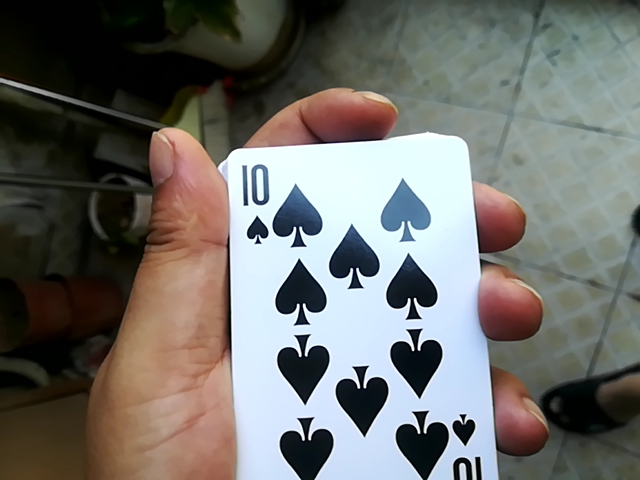ht 10: (198, 127, 478, 478)
